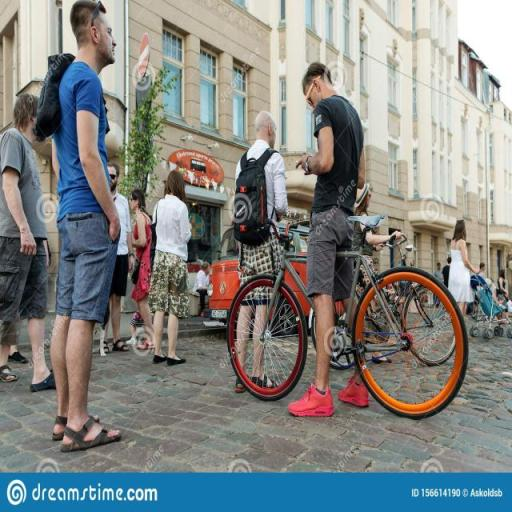person: (49, 1, 124, 451), (289, 61, 372, 419), (1, 93, 56, 390), (237, 110, 290, 395), (353, 180, 403, 367), (151, 168, 190, 368), (104, 166, 137, 358), (129, 193, 157, 347), (448, 218, 483, 339), (497, 269, 511, 328), (433, 261, 445, 309)
